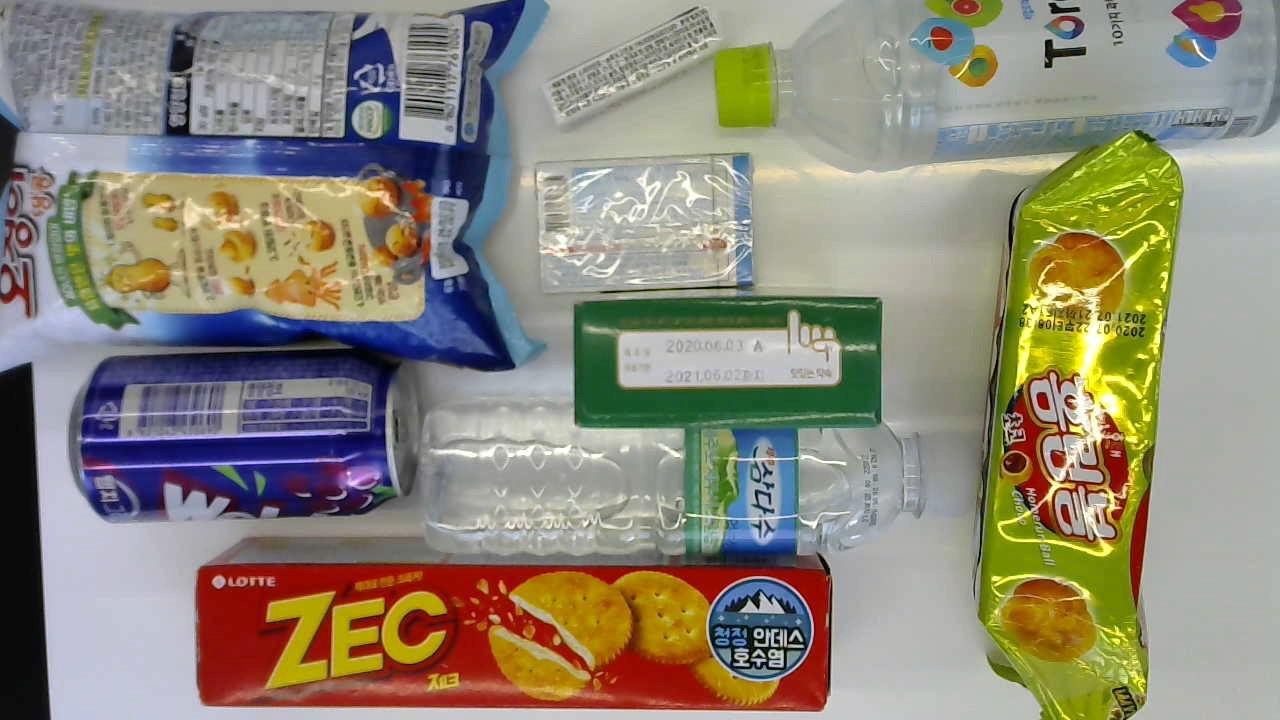ID_gum: (534, 151, 757, 295)
couque_coffee: (566, 297, 887, 429)
homerunball: (967, 129, 1205, 713)
samdasu: (421, 399, 979, 560)
spearmint: (543, 2, 723, 130)
squid_peanut: (0, 0, 551, 374)
toreta: (720, 0, 1277, 184)
welchs: (65, 345, 421, 526)
zec: (189, 555, 836, 708)
